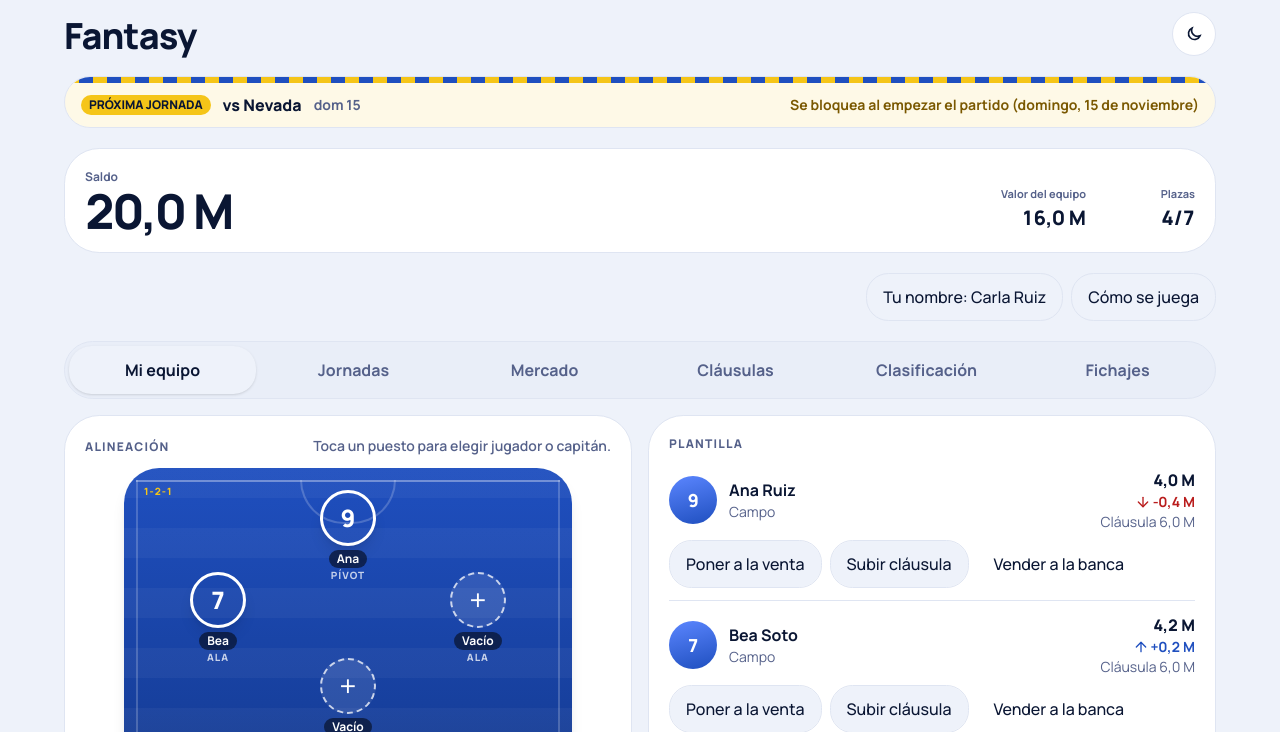
Test: Cláusulas › lista las copias de los demás con dueño, valor y cláusula, sin las mías
Click the tab "Cláusulas".
click(736, 370)  # box x1=642 y1=346 x2=829 y2=394
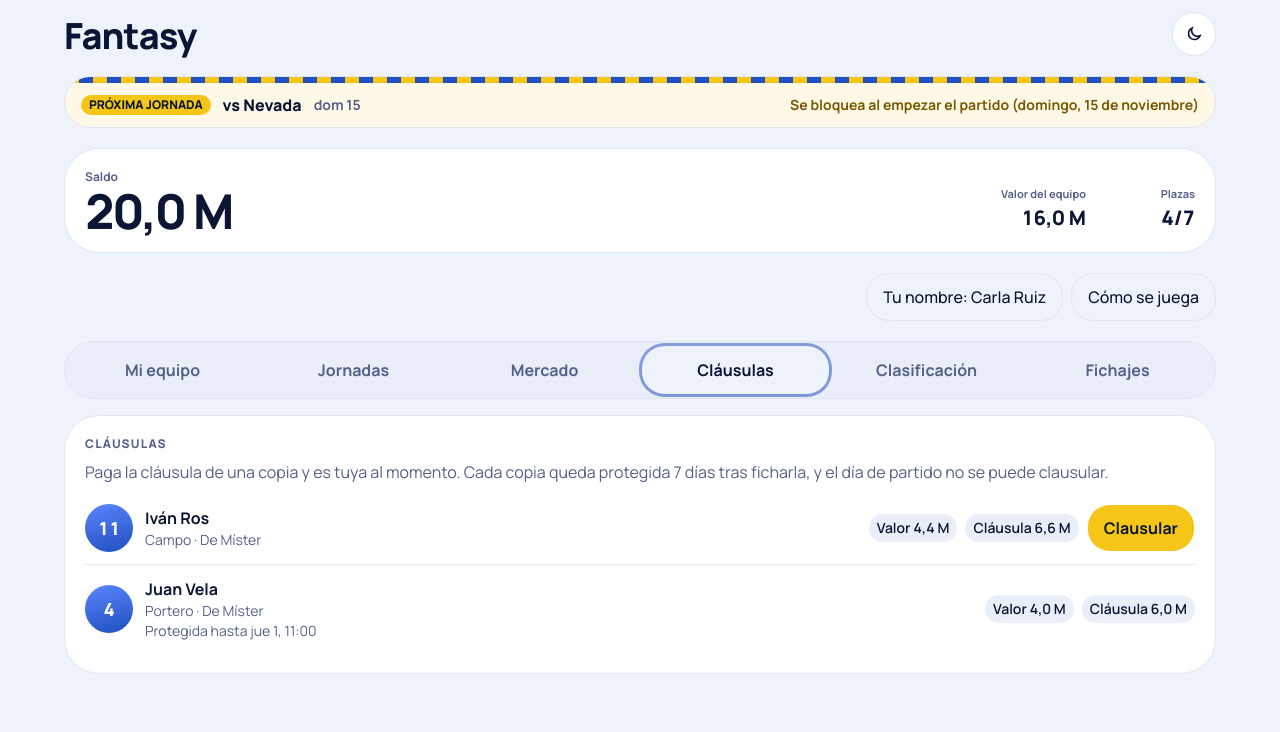
Expected: the list item "Iván Ros" shows "Míster", x1=145 y1=530 x2=261 y2=549
Expected: the list item "Iván Ros" shows "Valor 4,4 M", x1=877 y1=518 x2=949 y2=537
Expected: the list item "Iván Ros" shows "Cláusula 6,6 M", x1=974 y1=518 x2=1071 y2=537
